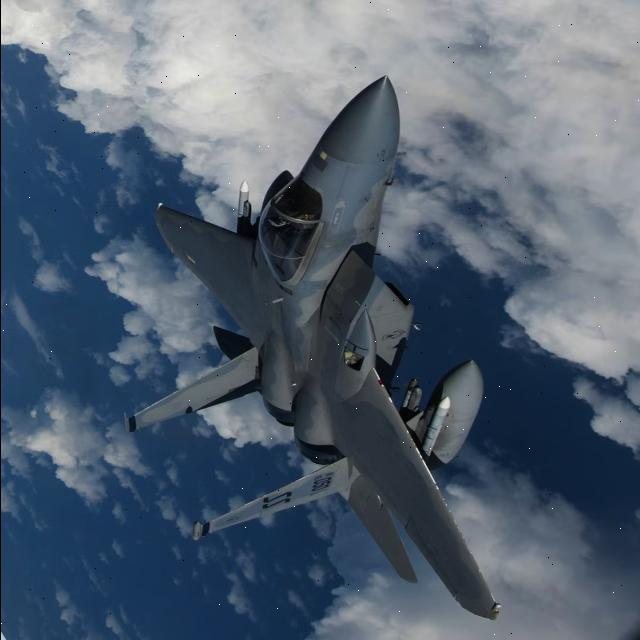F15: (106, 75, 531, 627)
